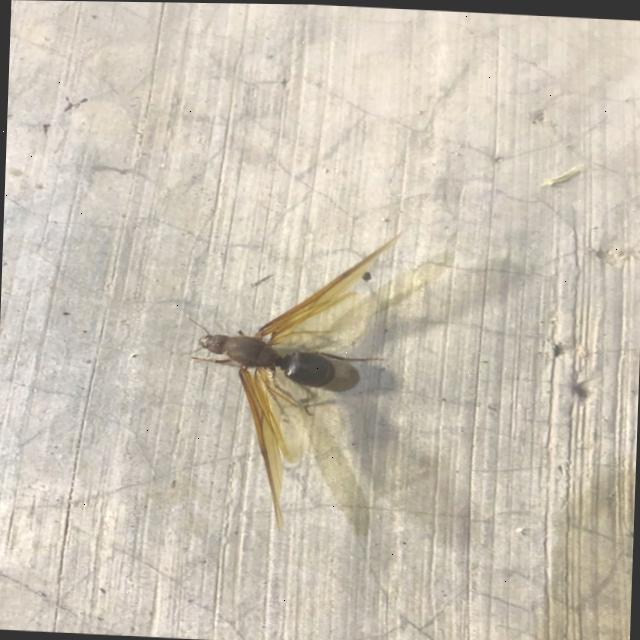Alive-Male-Alate: (173, 220, 402, 537)
